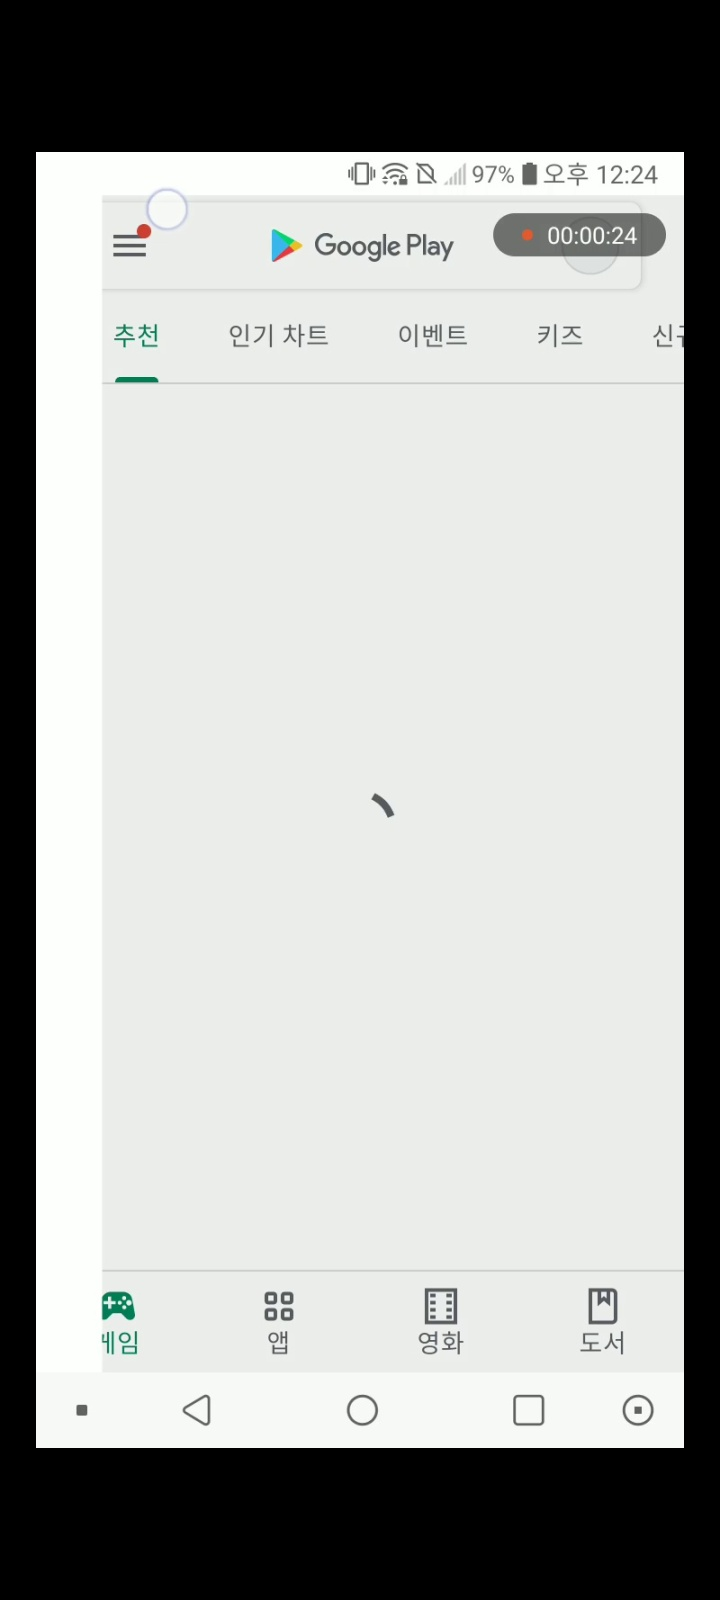Cursor: (145, 187, 190, 233)
